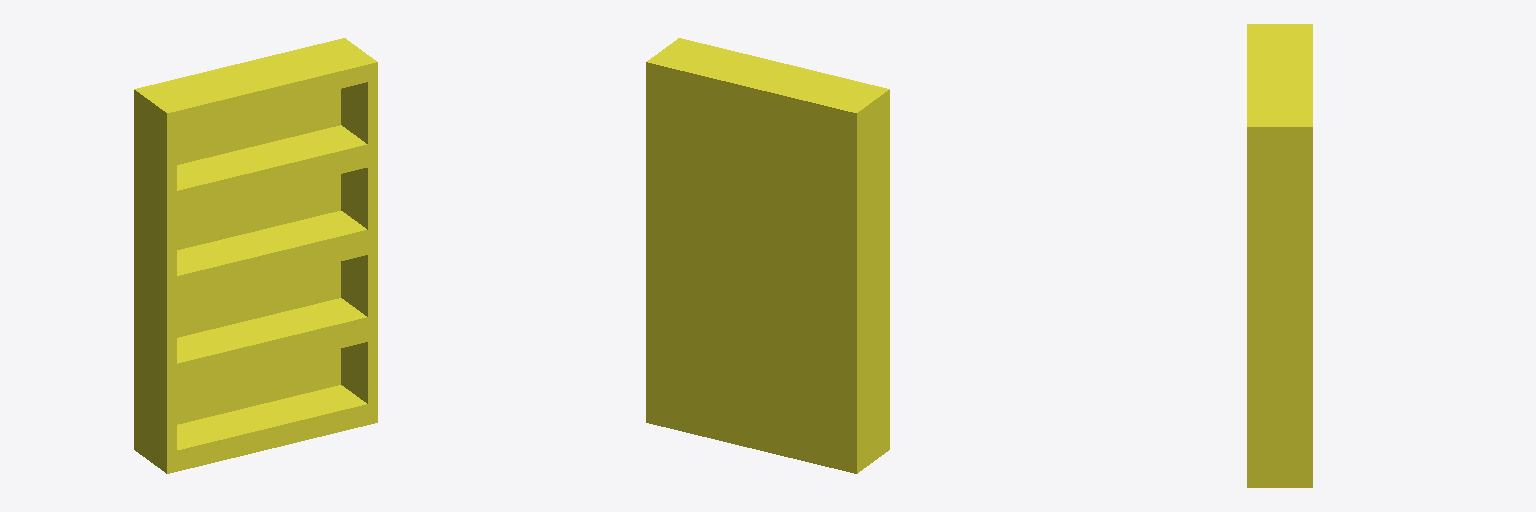
3 views of the same model, side by side, from view 1: azimuth 30°, elevation 25°; view 2: azimuth 150°, elevation 25°; view 3: azimuth 270°, elevation 25° (orthographic).
Visible parts, largest first — view 1: Cube.009_Cube.031; view 2: Cube.009_Cube.031; view 3: Cube.009_Cube.031.
Part boxes in pixels (x1,y1,x2,y2): Cube.009_Cube.031: (134, 38, 377, 473); Cube.009_Cube.031: (646, 38, 889, 473); Cube.009_Cube.031: (1247, 24, 1312, 487).
Bounding box in the file's own units: 11 × 18 × 3.
Materials: 1 (1 with a texture image).